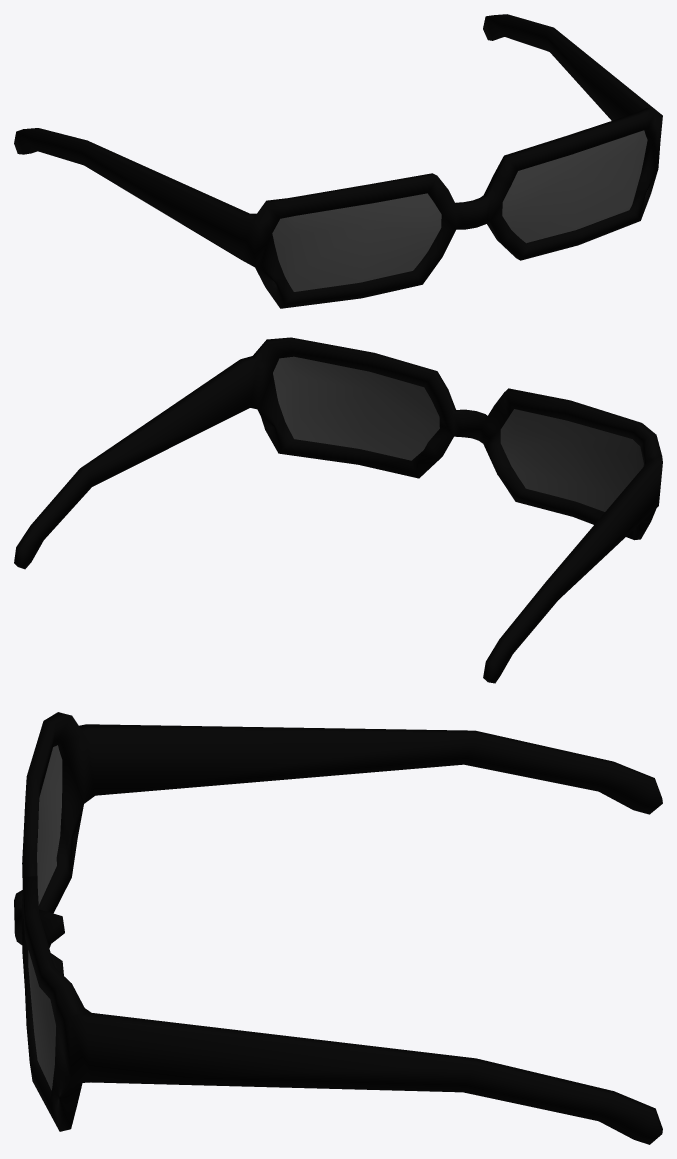
The model's file is acc002_01.dae.
The picture shows the model from 3 angles, top to bottom: view 1: azimuth 30°, elevation 25°; view 2: azimuth 150°, elevation 25°; view 3: azimuth 270°, elevation 25°; orthographic projection. The views are drawn at different scales.
Parts seen in each view (by area): view 1: m_frame1, m_lens; view 2: m_frame1, m_lens; view 3: m_frame1, m_lens.
Boxes of the visible parts, <box> form: m_frame1: <box>14,14,662,308</box>; m_lens: <box>272,130,647,291</box>; m_frame1: <box>14,337,662,683</box>; m_lens: <box>273,356,643,511</box>; m_frame1: <box>14,712,662,1144</box>; m_lens: <box>28,745,62,1090</box>.
Bounding box in the file's own units: 14.75 × 3.29 × 12.02.
